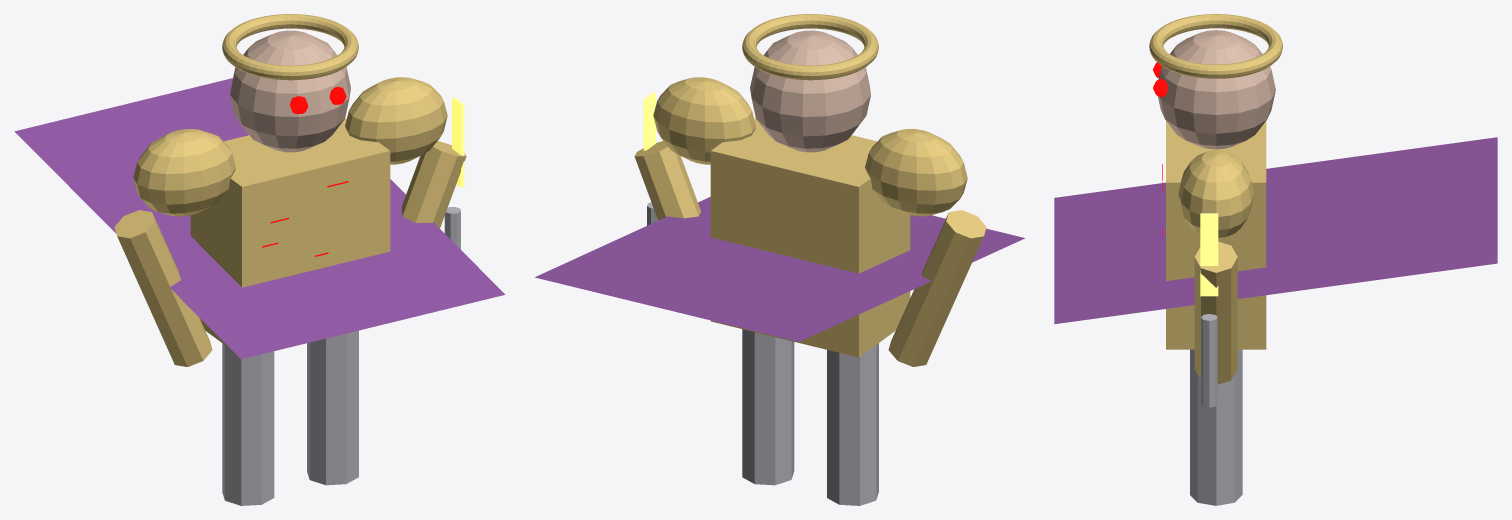
The model's file is boss_emperor.glb.
3 views of the same model, side by side, from view 1: azimuth 30°, elevation 25°; view 2: azimuth 150°, elevation 25°; view 3: azimuth 270°, elevation 25° (orthographic). The views are drawn at different scales.
Visible parts, largest first — view 1: Plane, Cube, Sphere.002, Cylinder.002, Cylinder.003, Sphere, Cylinder, Sphere.001, Torus, Cylinder.001, Cube.006, Cylinder.004; view 2: Plane, Cube, Sphere.002, Cylinder.002, Cylinder.003, Sphere, Cylinder, Sphere.001, Torus, Cylinder.001, Cube.006; view 3: Plane, Cube, Sphere.002, Cylinder.003, Sphere.001, Cylinder.001, Torus, Cylinder.004, Cube.006.
Part boxes in pixels (box(x1,y1,x2,y2)): Plane: box(14, 78, 505, 359); Cube: box(190, 118, 390, 349); Sphere.002: box(230, 30, 350, 152); Cylinder.002: box(222, 343, 274, 505); Cylinder.003: box(307, 330, 358, 485); Sphere: box(133, 129, 235, 216); Cylinder: box(114, 210, 212, 366); Sphere.001: box(345, 77, 447, 164); Torus: box(222, 14, 358, 80); Cylinder.001: box(401, 141, 466, 228); Cube.006: box(452, 97, 464, 187); Cylinder.004: box(444, 207, 460, 249); Plane: box(535, 197, 1024, 341); Cube: box(710, 118, 910, 357); Sphere.002: box(750, 30, 870, 152); Cylinder.002: box(827, 343, 878, 505); Cylinder.003: box(742, 329, 794, 485); Sphere: box(865, 129, 967, 216); Cylinder: box(888, 210, 986, 366); Sphere.001: box(653, 77, 755, 164); Torus: box(742, 14, 878, 80); Cylinder.001: box(634, 141, 700, 220); Cube.006: box(643, 92, 655, 150); Plane: box(1054, 137, 1497, 324); Cube: box(1166, 121, 1266, 349); Sphere.002: box(1158, 30, 1275, 149); Cylinder.003: box(1190, 349, 1242, 505); Sphere.001: box(1178, 149, 1253, 238); Cylinder.001: box(1194, 241, 1237, 384); Torus: box(1149, 14, 1282, 78); Cylinder.004: box(1201, 314, 1217, 407); Cube.006: box(1200, 213, 1218, 296).
Bounding box in the file's own units: 11.47 × 14.18 × 12.98.
